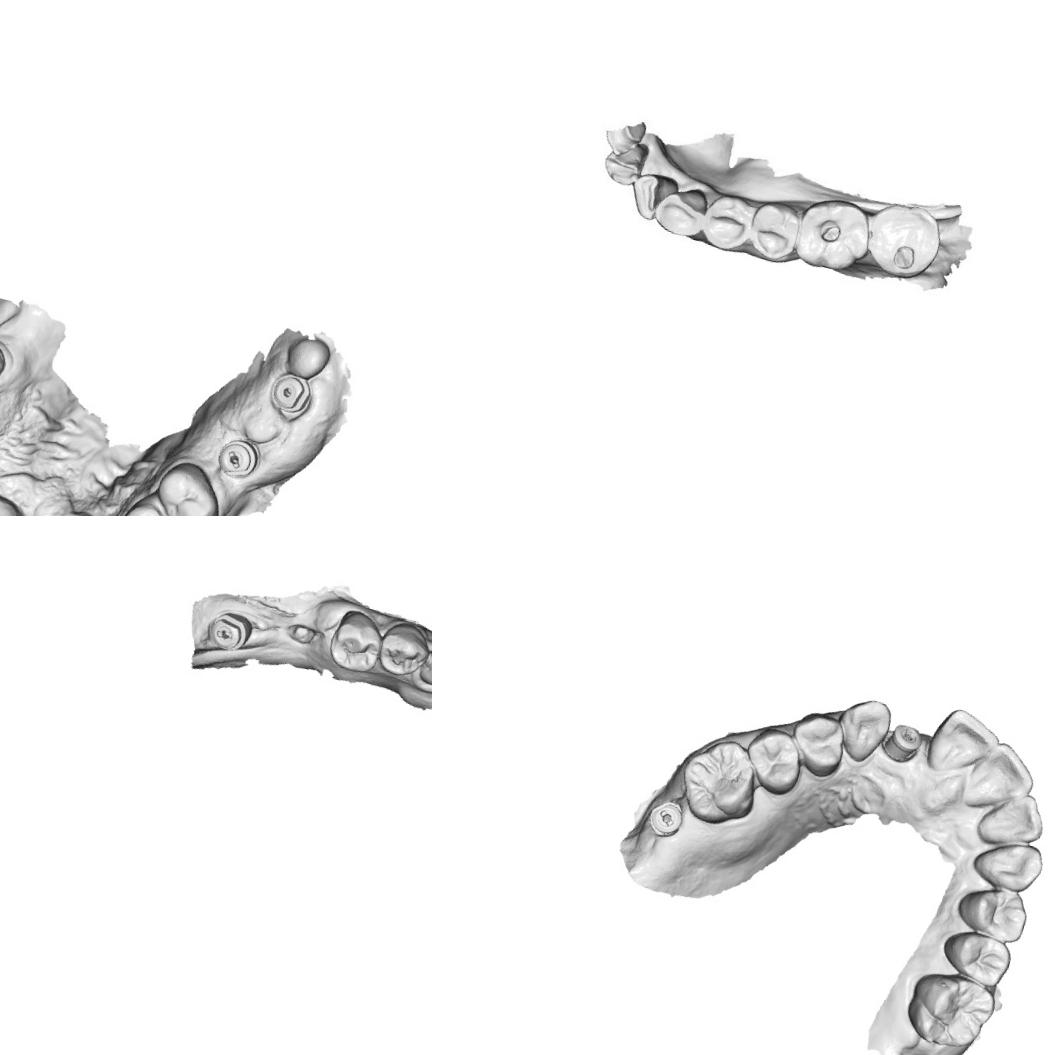canine: (966, 830, 1049, 898), (829, 691, 895, 768), (652, 178, 711, 243), (415, 638, 432, 694)
implant: (266, 370, 317, 418)
implant_minus: (634, 784, 701, 854), (212, 432, 263, 482), (202, 606, 254, 655), (880, 719, 926, 769)
incisor: (956, 734, 1042, 819), (920, 701, 1006, 785), (972, 782, 1050, 854), (624, 166, 676, 226), (598, 134, 652, 190)
molar: (672, 731, 768, 832), (898, 963, 1000, 1055), (789, 193, 876, 279), (861, 194, 944, 280)
premolar: (948, 879, 1032, 948), (737, 721, 809, 800), (934, 924, 1016, 990), (783, 706, 852, 782), (148, 454, 230, 516), (322, 604, 389, 676), (372, 616, 432, 680), (701, 192, 756, 252), (748, 202, 799, 262), (112, 496, 193, 516)
